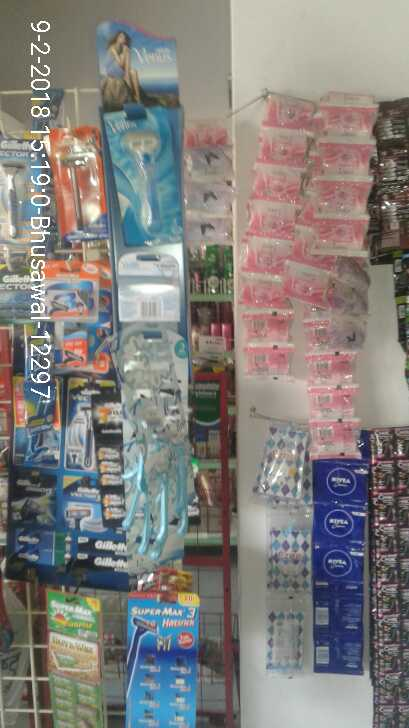beauty: (106, 105, 189, 243), (65, 376, 116, 472)
